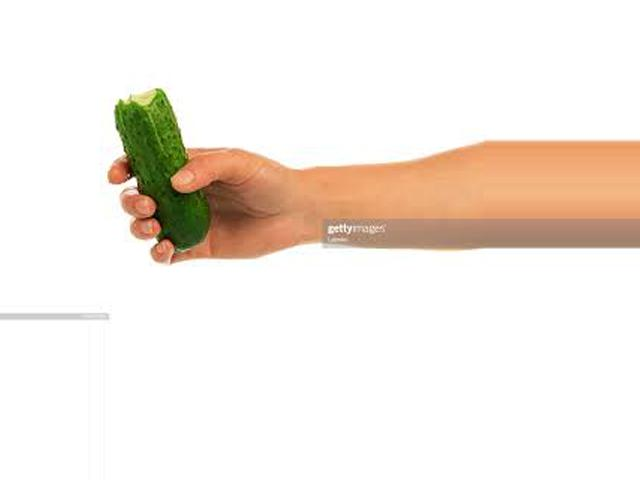cucumber: (115, 88, 209, 250)
